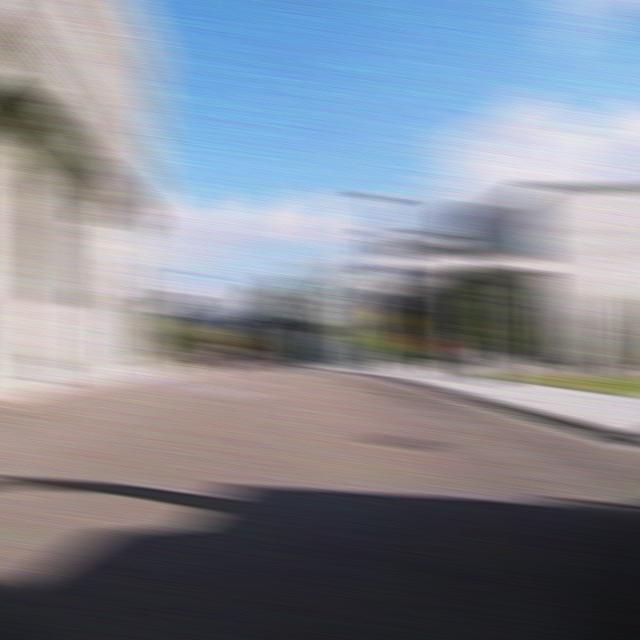pedestrianCrossing: (374, 306, 408, 330)
